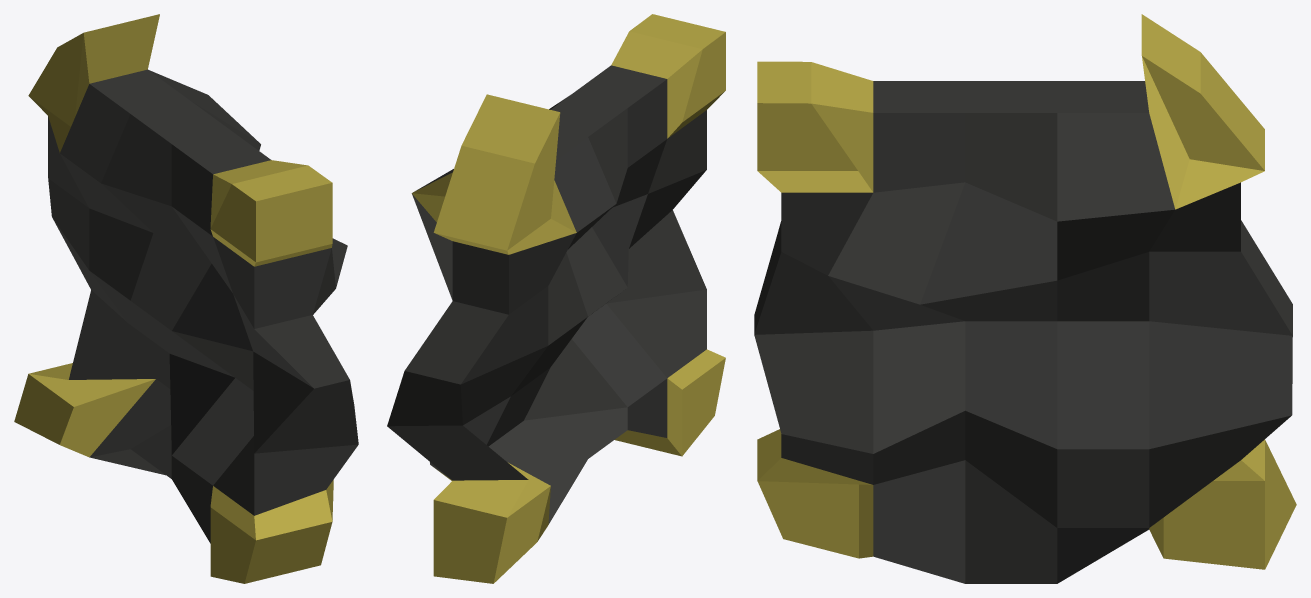
File: Sucata03.fbx
The picture shows the model from 3 angles, left to right: view 1: azimuth 30°, elevation 25°; view 2: azimuth 150°, elevation 25°; view 3: azimuth 270°, elevation 25°; orthographic projection. The views are drawn at different scales.
Parts seen in each view (by area): view 1: Cube; view 2: Cube; view 3: Cube.
Boxes of the visible parts, x1,y1,x2,y2 form: Cube: (14,14,358,583); Cube: (387,14,725,583); Cube: (754,14,1296,583).
Bounding box in the file's own units: 104 × 247 × 236.
